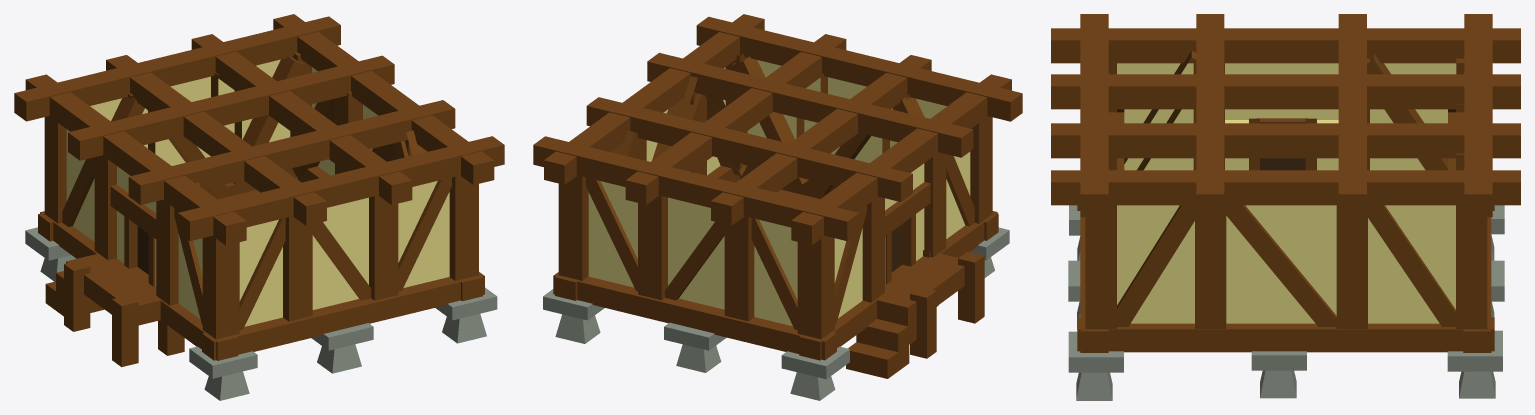
File: granary.fbx
The picture shows the model from 3 angles, left to right: view 1: azimuth 30°, elevation 25°; view 2: azimuth 150°, elevation 25°; view 3: azimuth 270°, elevation 25°; orthographic projection. The views are drawn at different scales.
Visible parts, largest first — view 1: granary:polySurface21; view 2: granary:polySurface21; view 3: granary:polySurface21.
Boxes of the visible parts, left/top/right/bottom form: granary:polySurface21: left=14, top=14, right=504, bottom=400; granary:polySurface21: left=533, top=14, right=1022, bottom=400; granary:polySurface21: left=1051, top=14, right=1520, bottom=400.
Size of the model in its own units: 183 by 98.53 by 193.
1 material, 1 textured.
